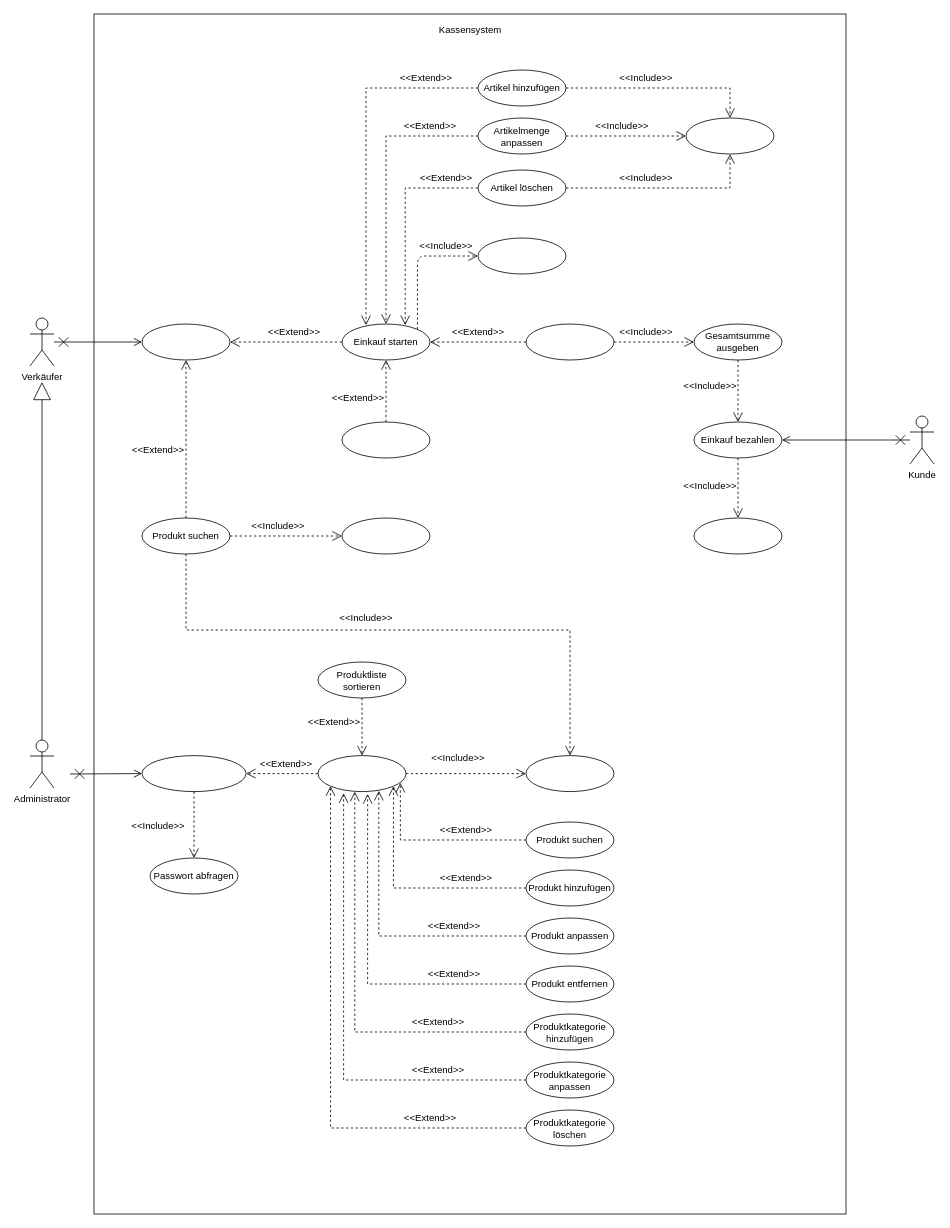
The diagram is 950 pixels wide and 1228 high, and some of its shapes have lost their labels. The shapes that lost their labels are listed below. From the top down, each one's centre as x and y in pixels, then its label:
the point at 729,135: Zwischensumme aktualisieren
the point at 521,255: Zwischensumme anzeigen
the point at 185,341: Verkäufersicht auswählen
the point at 569,341: Einkauf abschließen
the point at 385,439: Einkauf stornieren
the point at 385,535: Produktkategorie ausgeben
the point at 737,535: Bestand verringern
the point at 193,773: Administratorensicht auswählen
the point at 361,773: Produktliste anzeigen
the point at 569,773: Produkte abfragen
